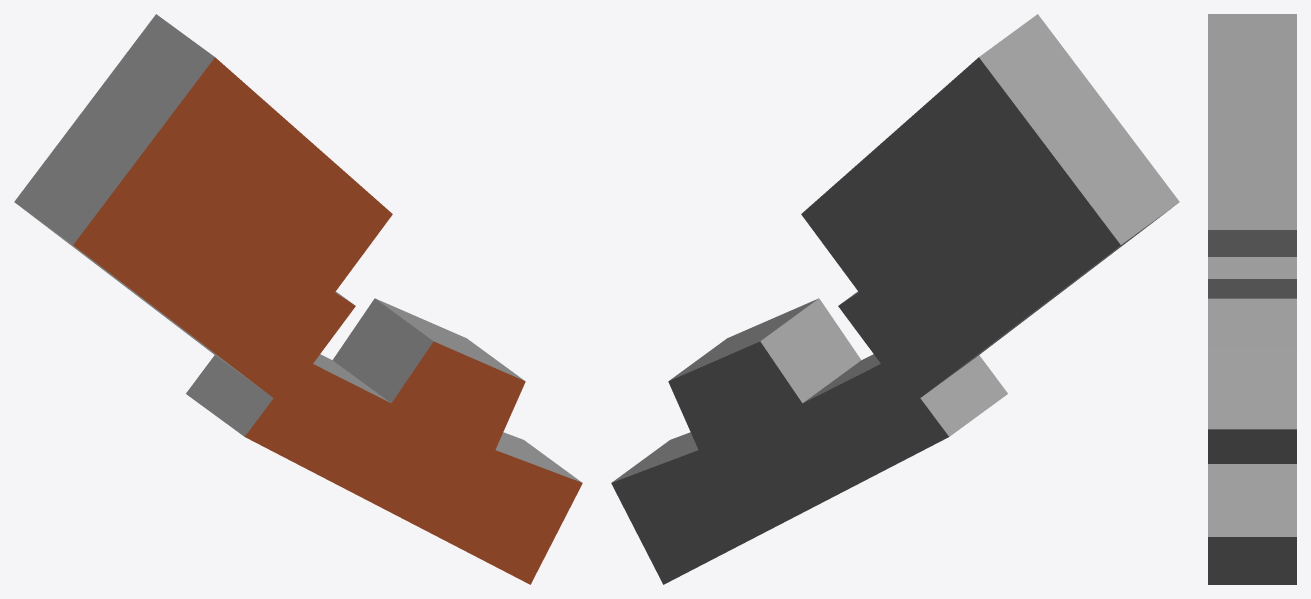
File: construction_5082_assumed_A_Casa_h6m.obj
The picture shows the model from 3 angles, left to right: view 1: azimuth 30°, elevation 25°; view 2: azimuth 150°, elevation 25°; view 3: azimuth 270°, elevation 25°; orthographic projection. The views are drawn at different scales.
Visible parts, largest first — view 1: construction_5082_assumed_A_Casa; view 2: construction_5082_assumed_A_Casa; view 3: construction_5082_assumed_A_Casa.
Part boxes in pixels (x1,y1,x2,y2): construction_5082_assumed_A_Casa: (14,14,582,584); construction_5082_assumed_A_Casa: (611,14,1179,584); construction_5082_assumed_A_Casa: (1208,14,1296,584).
Bounding box in the file's own units: 29.94 × 33.95 × 6.
